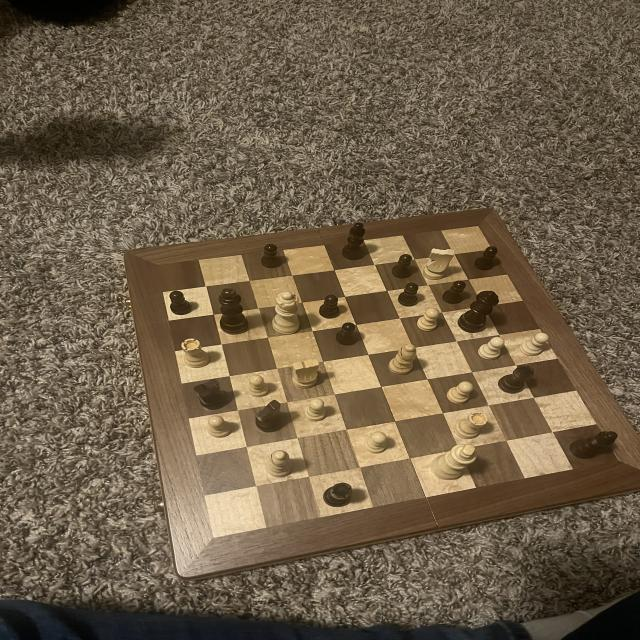bishop: (561, 428, 628, 461), (338, 220, 368, 266)
black-bishop: (214, 286, 254, 336)
black-king: (193, 375, 229, 412), (253, 400, 286, 432)
black-knight: (167, 290, 197, 318), (441, 278, 471, 305), (317, 293, 346, 320), (389, 253, 418, 279), (472, 244, 500, 270), (333, 321, 360, 347), (260, 242, 284, 271), (396, 282, 421, 308)
black-pawn: (457, 288, 503, 336)
black-queen: (494, 363, 537, 395), (320, 481, 356, 507)
black-rook: (386, 342, 422, 376), (264, 448, 297, 479)
white-bishop: (428, 442, 482, 482)
white-king: (287, 356, 325, 390), (423, 248, 458, 280)
white-knight: (518, 331, 550, 359), (476, 335, 508, 362), (445, 380, 478, 405), (364, 429, 392, 457), (244, 372, 273, 399), (303, 397, 332, 423), (205, 414, 234, 439), (416, 307, 440, 333)
white-pawn: (269, 291, 303, 335)
white-queen: (453, 411, 492, 442), (180, 336, 214, 370)
